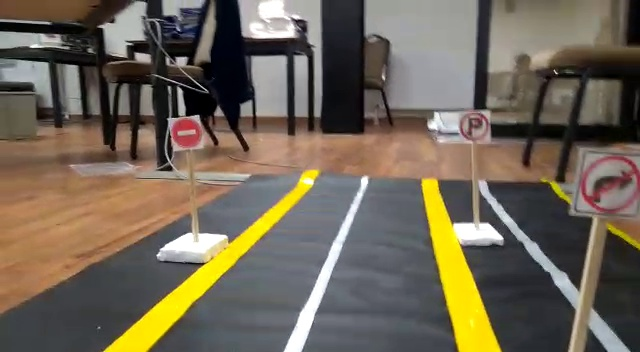girisi_olmayan_yol: (168, 113, 205, 148)
park_yapilmaz: (458, 109, 493, 142)
saga_donulmez: (580, 151, 640, 215)
